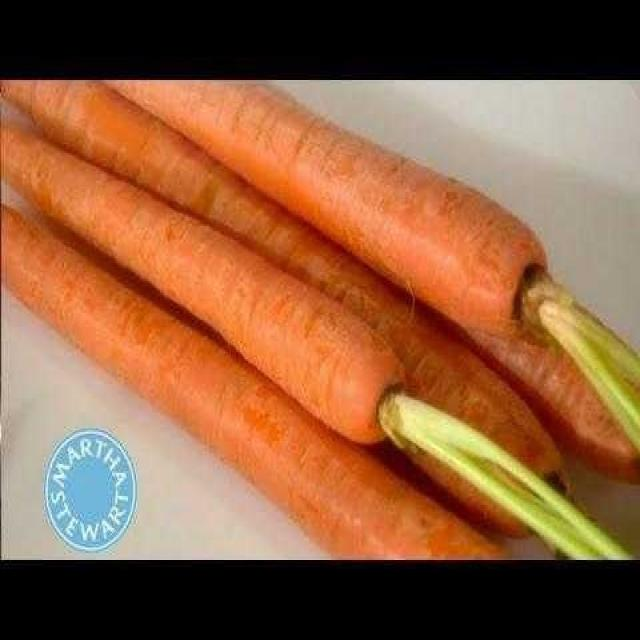carrots: (0, 54, 590, 558)
